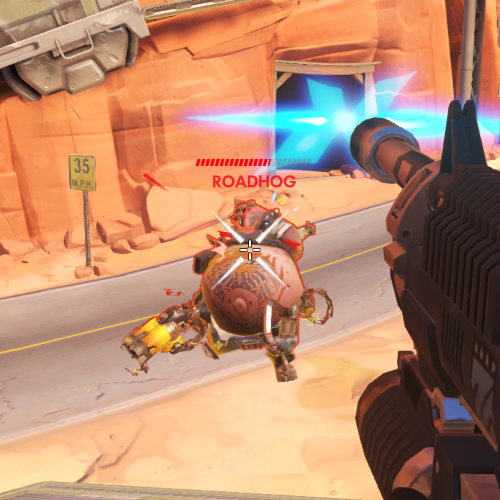hpbar: (195, 158, 312, 167)
